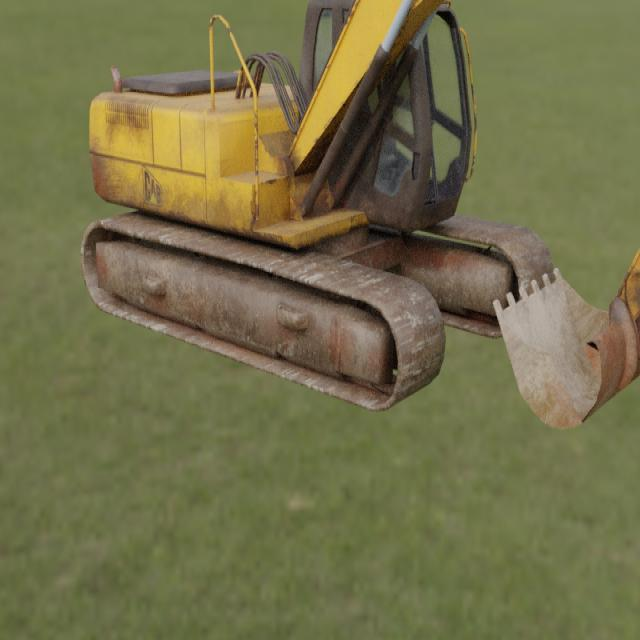excavator: (80, 0, 640, 431)
